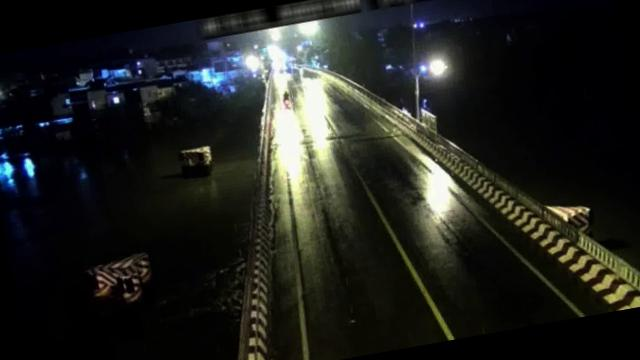Bike: (281, 88, 294, 109)
